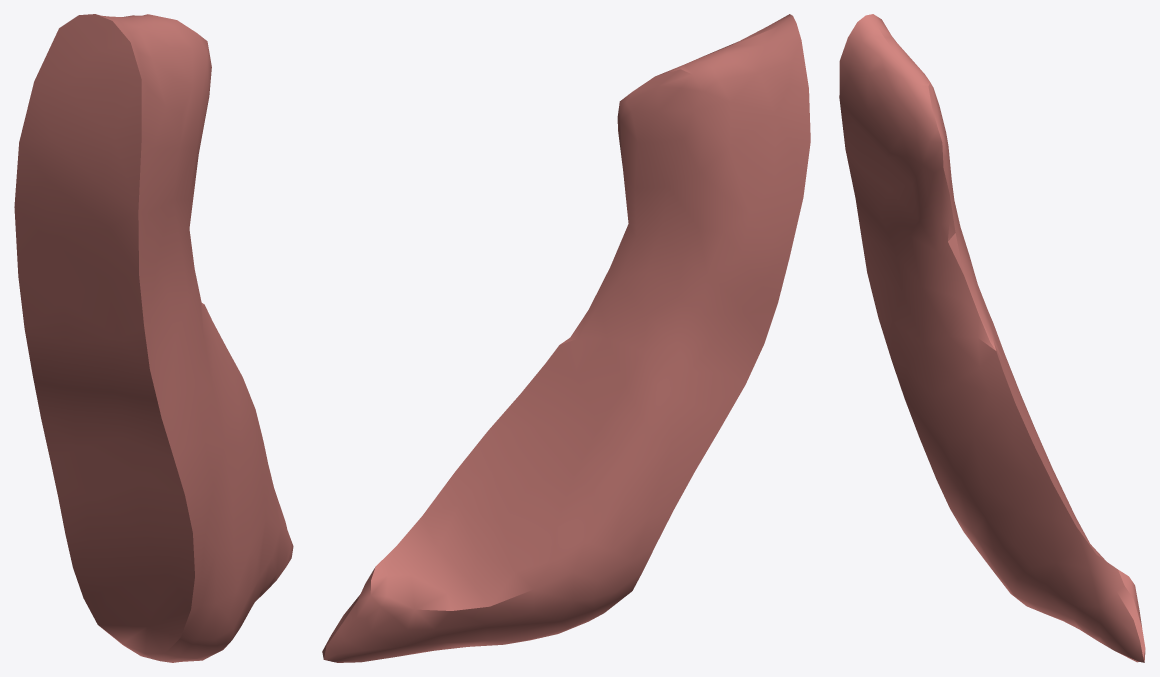
File: fma299125_mm3999m.glb
3 views of the same model, side by side, from view 1: azimuth 30°, elevation 25°; view 2: azimuth 150°, elevation 25°; view 3: azimuth 270°, elevation 25° (orthographic). The views are drawn at different scales.
Parts seen in each view (by area): view 1: FMA299125_MM3999M; view 2: FMA299125_MM3999M; view 3: FMA299125_MM3999M.
Part boxes in pixels (x1=…): FMA299125_MM3999M: x1=14, y1=14, x2=293, y2=662; FMA299125_MM3999M: x1=322, y1=14, x2=810, y2=662; FMA299125_MM3999M: x1=839, y1=14, x2=1145, y2=662.
Bounding box in the file's own units: 0.0307 × 0.0511 × 0.0271.
